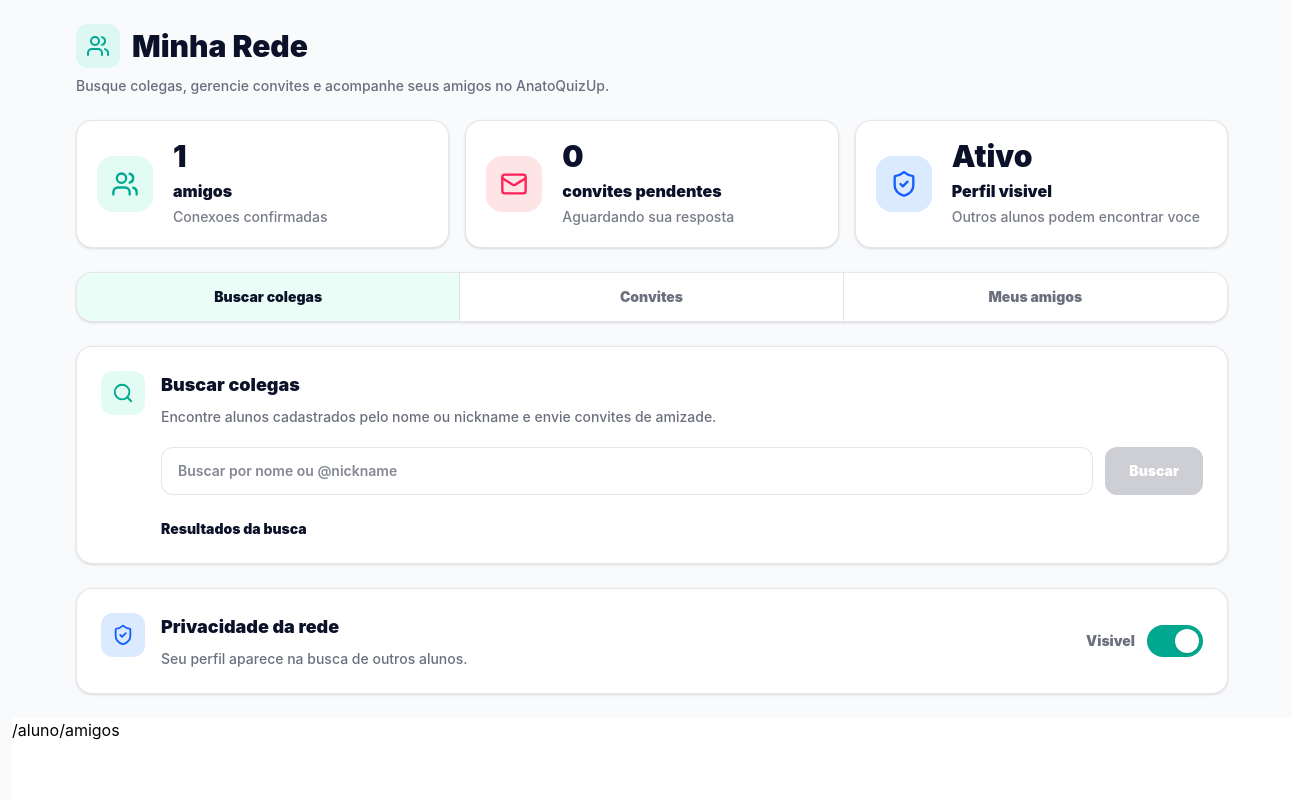
Scenario: AmigosPage › busca colega por nickname
In the field named "Buscar por nome ou nickname": coordinates (627, 471) [161,447,1093,495], type "@rafael"
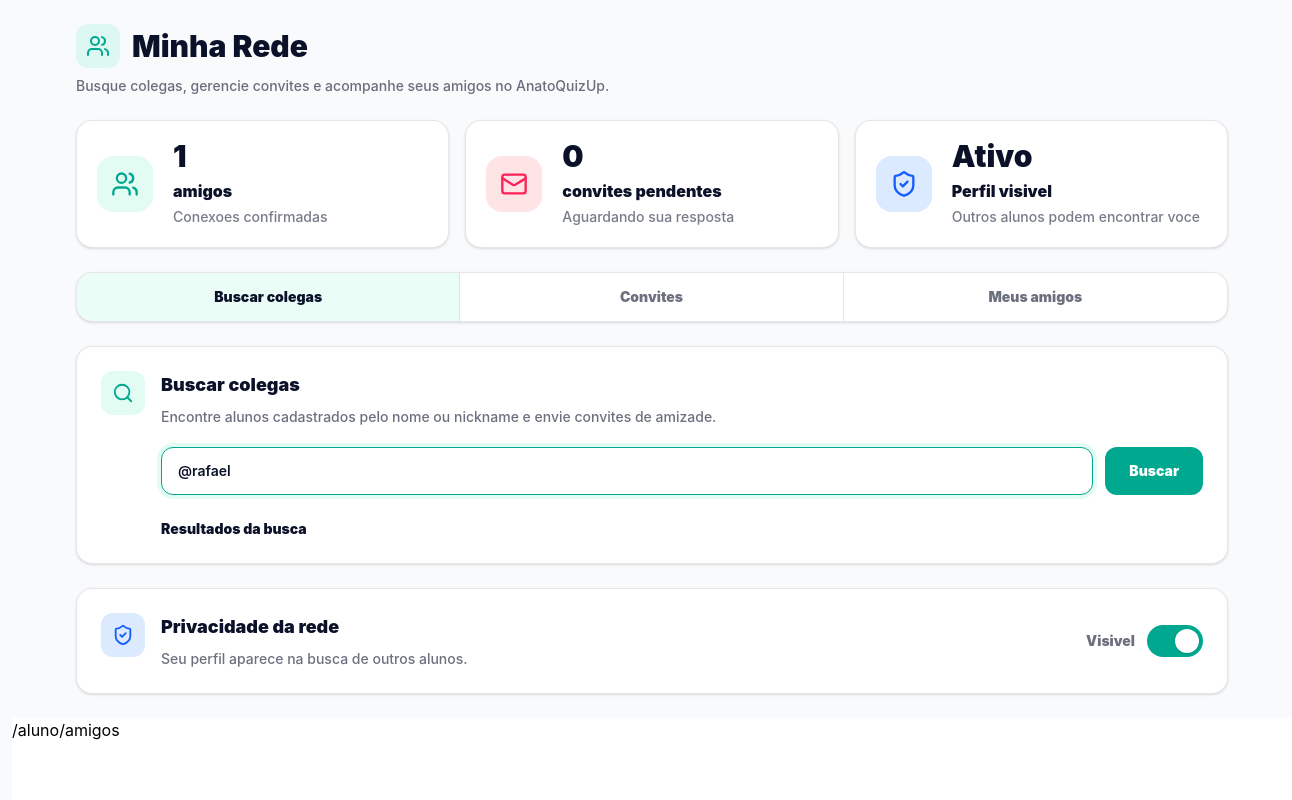
Click the button "Buscar": coordinates (1154, 471) [1105,447,1203,495]
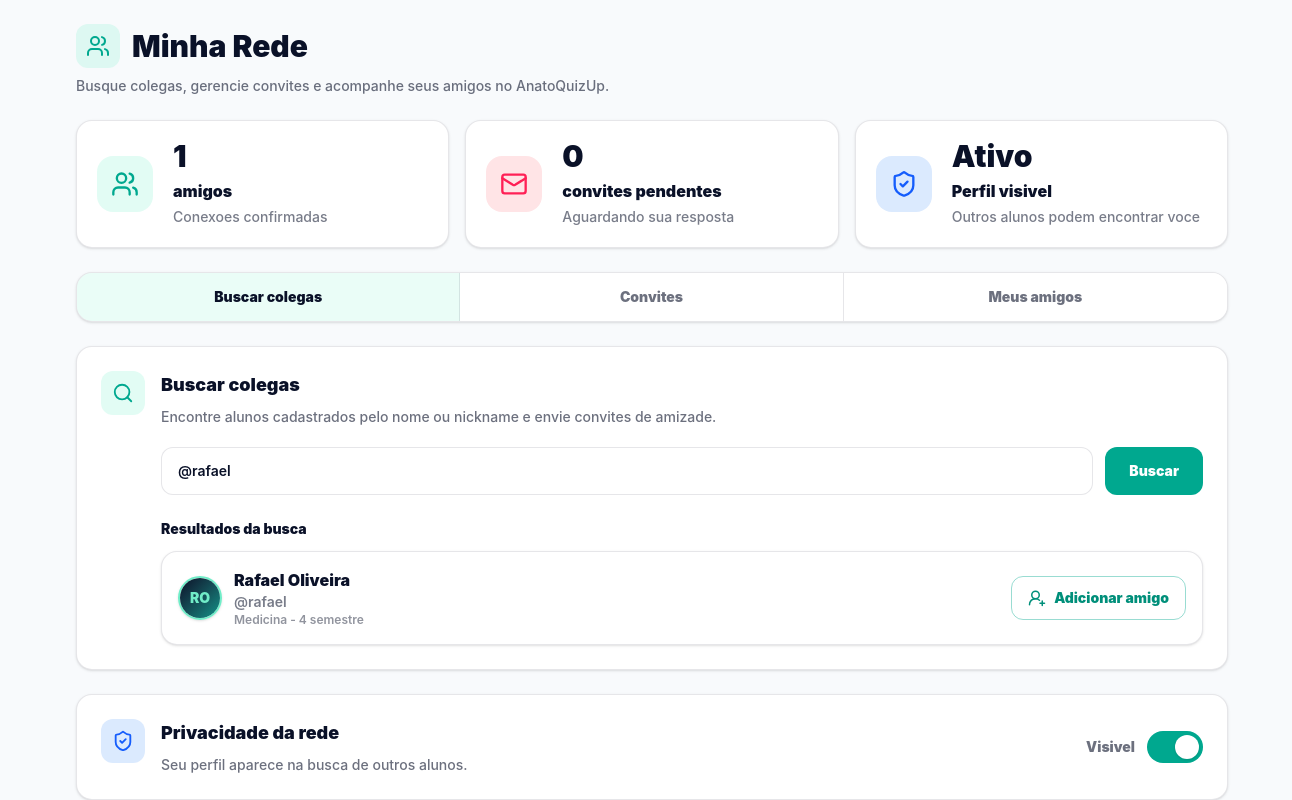
Now the heading "Rafael Oliveira" is shown, box [234,568,364,592]
